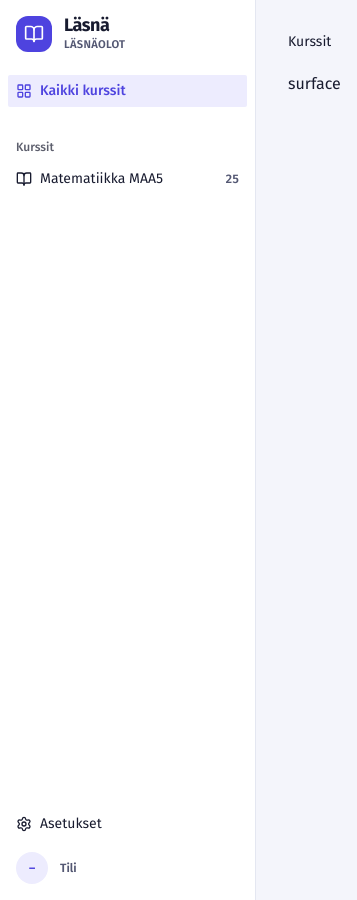
Test case: the app shell › keeps logging out reachable, which the prototype sidebar had dropped
This screenshot has width=357, height=900.
Click the button "– Tili".
click(128, 868)  # box x1=8 y1=844 x2=247 y2=892
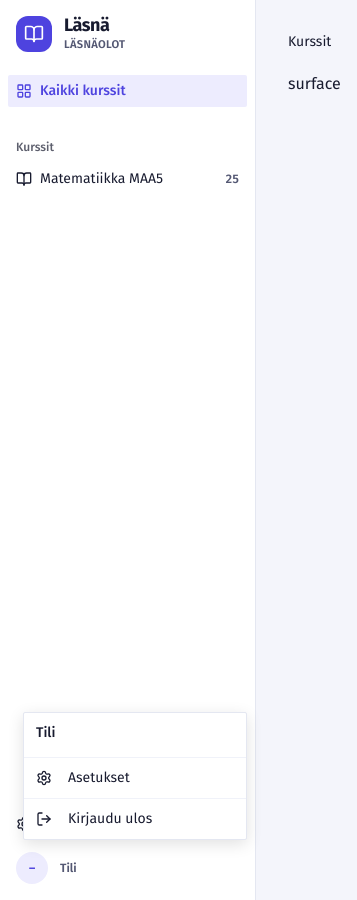
Now the menu item "Kirjaudu ulos" is shown, box x1=36 y1=810 x2=152 y2=827
Now the menu item "Asetukset" is shown, box x1=36 y1=769 x2=130 y2=786
